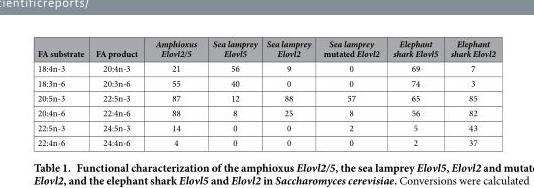table: (36, 37, 494, 148)
table column: (316, 37, 385, 148), (145, 37, 204, 148), (385, 37, 443, 148), (204, 37, 261, 148), (89, 37, 145, 148), (261, 37, 316, 148), (36, 37, 89, 148), (443, 37, 494, 148)
table column header: (36, 37, 494, 60)
table row: (36, 37, 494, 60), (36, 60, 494, 75), (36, 75, 494, 90), (36, 90, 494, 105), (36, 119, 494, 134), (36, 105, 494, 119), (36, 134, 494, 148)
